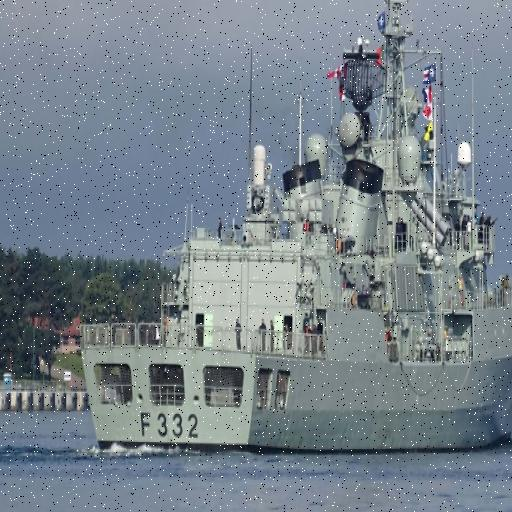Fragata: (78, 1, 512, 454)
